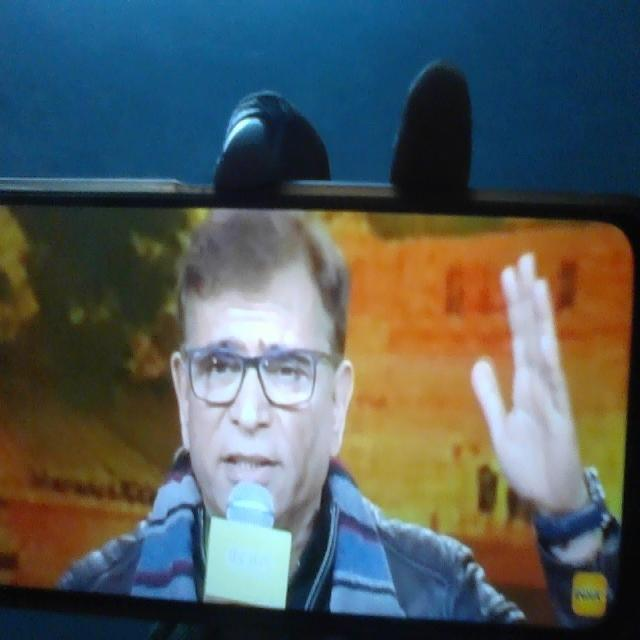fake: (172, 206, 356, 554)
